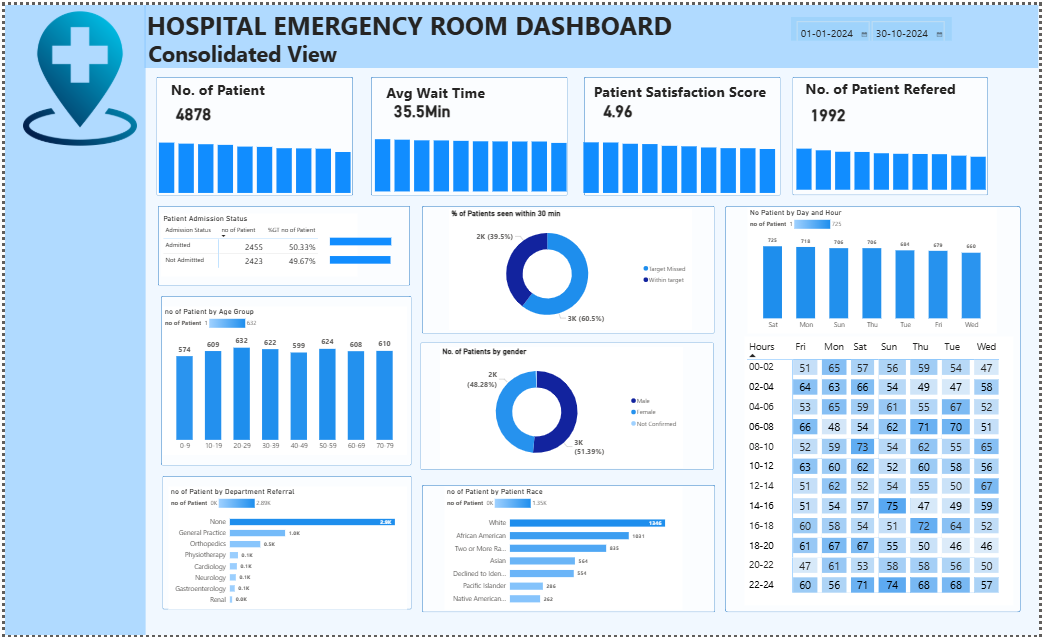

This screenshot's page, from the dashboard's own definition file:
{"tool":"powerbi","page":{"name":"Consolidated View","canvas":[2300,1400],"ordinal":1},"visuals":[{"type":"shape","box":[346.7,646.7,556.7,376.7],"z":0},{"type":"shape","box":[350,1046.4,553.6,296.4],"z":1000},{"type":"shape","box":[0,0,312.5,1400],"z":2000},{"type":"shape","box":[309.5,0,1988.4,140],"z":3000},{"type":"textbox","box":[309.5,0,1185.1,105.3],"z":4000},{"type":"textbox","box":[312.5,70,520,97.5],"z":5000},{"type":"slicer","fields":{"Values":["Date Tabel.Date"]},"box":[1745,27.5,357.5,52.5],"z":6000},{"type":"shape","box":[336.7,160,436.7,263.3],"z":8000},{"type":"card","fields":{"Values":["Hospital ER_Data.no of Patient"]},"box":[343.3,196.7,150,86.7],"z":9000},{"type":"textbox","box":[363.3,160,260,53.3],"z":10000},{"type":"columnChart","fields":{"Category":["Date Tabel.Month Name"],"Y":["Hospital ER_Data.no of Patient"]},"box":[336.7,276.7,436.7,146.7],"z":11000},{"type":"shape","box":[813.3,160,436.7,263.3],"z":12000},{"type":"card","fields":{"Values":["Hospital ER_Data.Avg wit time"]},"box":[833.3,186.7,186.7,90],"z":13000},{"type":"textbox","box":[833.3,166.7,286.7,56.7],"z":14000},{"type":"columnChart","fields":{"Category":["Date Tabel.Month Name"],"Y":["Avg(Hospital ER_Data.Patient Waittime)"]},"box":[816.7,273.3,436.7,146.7],"z":15000},{"type":"shape","box":[1286.7,160,436.7,263.3],"z":16000},{"type":"card","fields":{"Values":["Hospital ER_Data.Avg Patient Satisfy"]},"box":[1286.7,190,150,83.3],"z":17000},{"type":"textbox","box":[1303.3,163.3,420,60],"z":18000},{"type":"columnChart","fields":{"Category":["Date Tabel.Month Name"],"Y":["Avg(Hospital ER_Data.Patient Satisfaction Score)"]},"box":[1280,276.7,436.7,146.7],"z":19000},{"type":"shape","box":[1751.4,160,434.3,262.9],"z":20000},{"type":"card","fields":{"Values":["Hospital ER_Data.Notient Refered"]},"box":[1753.3,198.6,150,83.3],"z":21000},{"type":"textbox","box":[1773.3,155.2,423.3,56.7],"z":22000},{"type":"columnChart","fields":{"Category":["Date Tabel.Month Name"],"Y":["Hospital ER_Data.No of Patient Refered"]},"box":[1754.3,274.3,431.4,142.9],"z":23000},{"type":"shape","box":[341.1,447.8,560,176.7],"z":24000},{"type":"clusteredColumnChart","fields":{"Category":["Hospital ER_Data.Age Group"],"Y":["Hospital ER_Data.no of Patient"]},"box":[350,670,543.3,330],"z":25000},{"type":"pivotTable","title":"Patient Admission Status","fields":{"Rows":["Hospital ER_Data.Admission Status"],"Values":["Hospital ER_Data.no of Patient1","Hospital ER_Data.no of Patient"]},"box":[347.8,464.4,436.7,140],"z":26000},{"type":"barChart","fields":{"Category":["Hospital ER_Data.Admission Status"],"Y":["Hospital ER_Data.no of Patient"]},"box":[716.7,483.3,176.7,120],"z":27000},{"type":"clusteredBarChart","fields":{"Y":["Hospital ER_Data.no of Patient"],"Category":["Hospital ER_Data.Department Referral"]},"box":[363.3,1070,530,273.3],"z":28000},{"type":"shape","box":[926.7,446.7,650,283.3],"z":29000},{"type":"donutChart","title":"% of Patients seen within 30 min","fields":{"Category":["Hospital ER_Data.Wait time"],"Y":["Hospital ER_Data.no of Patient"]},"box":[985.7,454.3,540,268.6],"z":30000},{"type":"shape","box":[922.9,751.4,651.4,282.9],"z":31000},{"type":"donutChart","title":"No. of Patients  by gender","fields":{"Y":["Hospital ER_Data.no of Patient"],"Category":["Hospital ER_Data.Patient Gender"]},"box":[965.7,760,540,268.6],"z":32000},{"type":"shape","box":[925.7,1065.7,651.4,282.9],"z":33000},{"type":"clusteredBarChart","fields":{"Y":["Hospital ER_Data.no of Patient"],"Category":["Hospital ER_Data.Patient Race"]},"box":[977.1,1068.6,528.6,274.3],"z":34000},{"type":"shape","box":[1600,445.7,657.1,902.9],"z":35000},{"type":"pivotTable","fields":{"Rows":["Hospital ER_Data.Waittime Interval"],"Columns":["Date Tabel.Day Name"],"Values":["Hospital ER_Data.no of Patient"]},"box":[1642.9,737.1,597.1,597.1],"z":36000},{"type":"columnChart","title":"No Patient by Day and Hour","fields":{"Category":["Date Tabel.Day Name"],"Y":["Hospital ER_Data.no of Patient"]},"box":[1648.6,451.4,554.3,280],"z":37000},{"type":"image","box":[15,12.5,300,300],"z":38000}]}

Visuals, with their boxes in screenshot pixels (x1, y1, x2, y2), scaled from the page's 2300x1400 canvas onto the 1042x637 screenshot:
shape: (157, 294, 409, 466)
shape: (159, 476, 409, 611)
shape: (0, 0, 142, 636)
shape: (140, 0, 1041, 64)
textbox: (140, 0, 677, 48)
textbox: (142, 32, 377, 76)
slicer - Date Tabel.Date: (791, 13, 953, 36)
shape: (153, 73, 350, 193)
card - Hospital ER_Data.no of Patient: (156, 89, 223, 129)
textbox: (165, 73, 282, 97)
columnChart - Date Tabel.Month Name x Hospital ER_Data.no of Patient: (153, 126, 350, 193)
shape: (368, 73, 566, 193)
card - Hospital ER_Data.Avg wit time: (378, 85, 462, 126)
textbox: (378, 76, 507, 102)
columnChart - Date Tabel.Month Name x Avg(Hospital ER_Data.Patient Waittime): (370, 124, 568, 191)
shape: (583, 73, 781, 193)
card - Hospital ER_Data.Avg Patient Satisfy: (583, 86, 651, 124)
textbox: (590, 74, 781, 102)
columnChart - Date Tabel.Month Name x Avg(Hospital ER_Data.Patient Satisfaction Score): (580, 126, 778, 193)
shape: (793, 73, 990, 192)
card - Hospital ER_Data.Notient Refered: (794, 90, 862, 128)
textbox: (803, 71, 995, 96)
columnChart - Date Tabel.Month Name x Hospital ER_Data.No of Patient Refered: (795, 125, 990, 190)
shape: (155, 204, 408, 284)
clusteredColumnChart - Hospital ER_Data.Age Group x Hospital ER_Data.no of Patient: (159, 305, 405, 455)
"Patient Admission Status" pivotTable: (158, 211, 355, 275)
barChart - Hospital ER_Data.Admission Status x Hospital ER_Data.no of Patient: (325, 220, 405, 275)
clusteredBarChart - Hospital ER_Data.no of Patient x Hospital ER_Data.Department Referral: (165, 487, 405, 611)
shape: (420, 203, 714, 332)
"% of Patients seen within 30 min" donutChart: (447, 207, 691, 329)
shape: (418, 342, 713, 471)
"No. of Patients  by gender" donutChart: (438, 346, 682, 468)
shape: (419, 485, 714, 614)
clusteredBarChart - Hospital ER_Data.no of Patient x Hospital ER_Data.Patient Race: (443, 486, 682, 611)
shape: (725, 203, 1023, 614)
pivotTable - Hospital ER_Data.Waittime Interval x Date Tabel.Day Name: (744, 335, 1015, 607)
"No Patient by Day and Hour" columnChart: (747, 205, 998, 333)
image: (7, 6, 143, 142)
